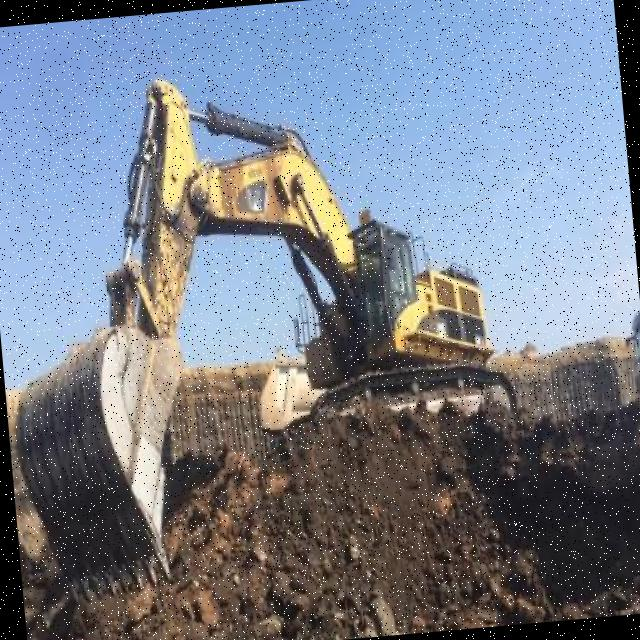Excavator: (0, 42, 534, 614)
